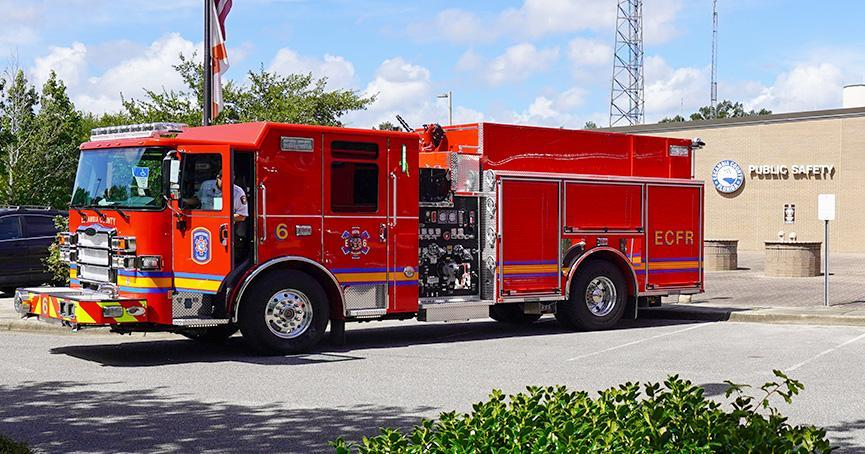Fire-engine: (18, 122, 706, 356)
